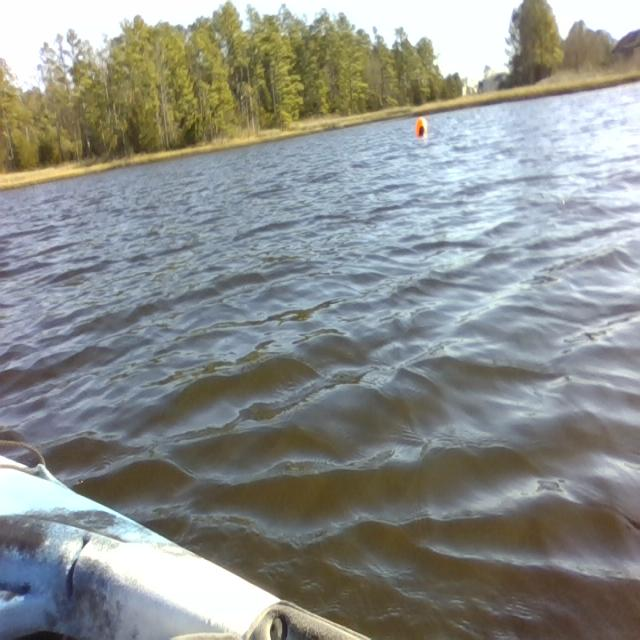Buoy: (412, 112, 431, 145)
